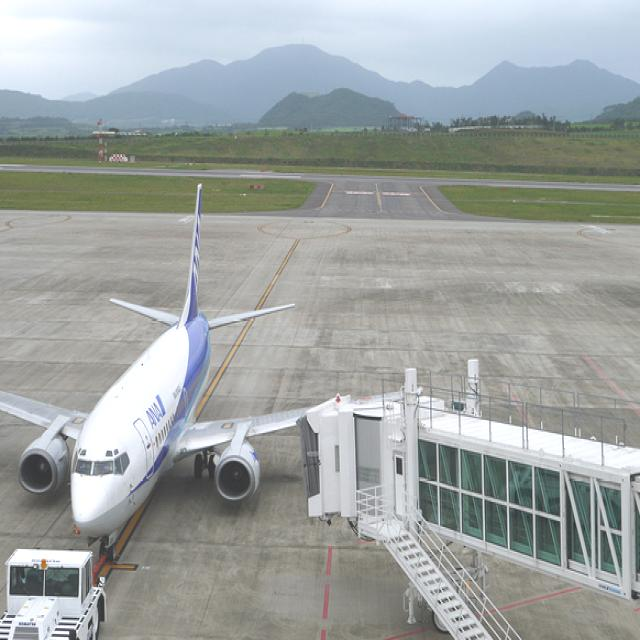Vehicle: (0, 544, 106, 640)
